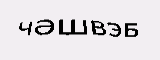Б: (122, 21, 139, 38)
В: (90, 17, 106, 38)
Ч: (16, 20, 34, 35)
Ш: (57, 18, 90, 36)
Э: (105, 19, 122, 39)
Ә: (34, 16, 54, 37)
